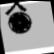not correct: (3, 0, 36, 37)
